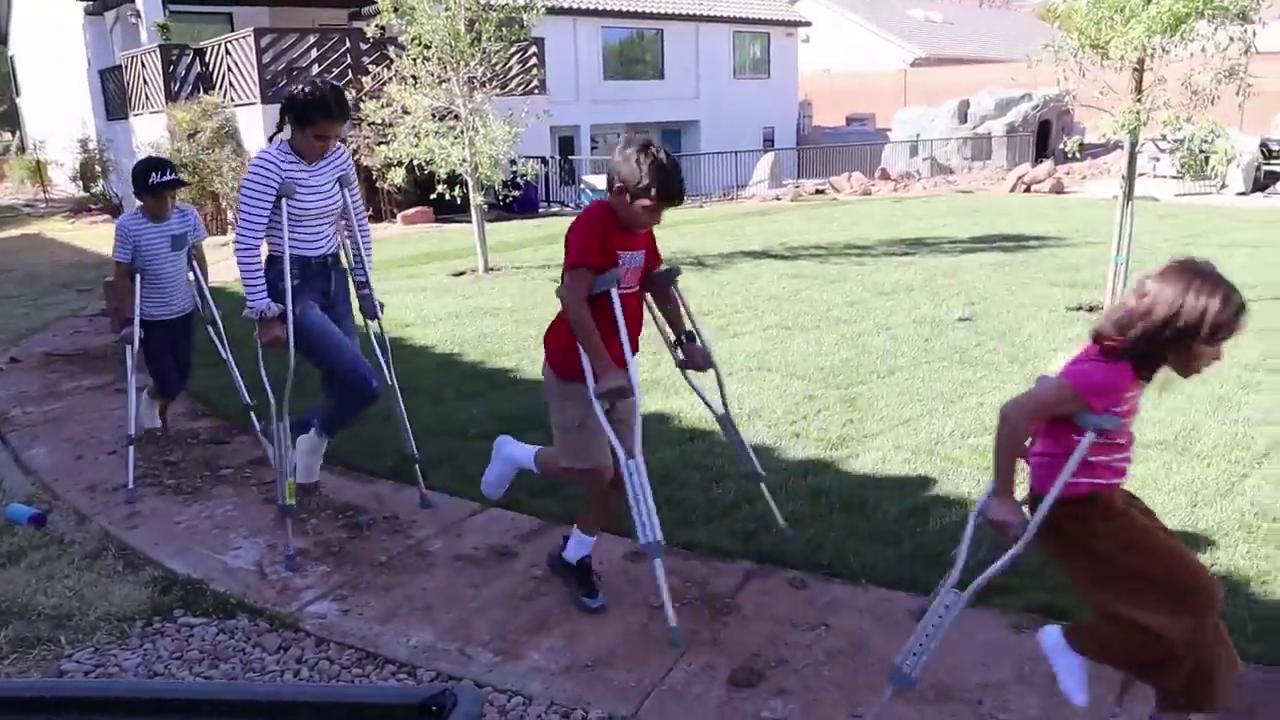crutches: (233, 83, 436, 570)
